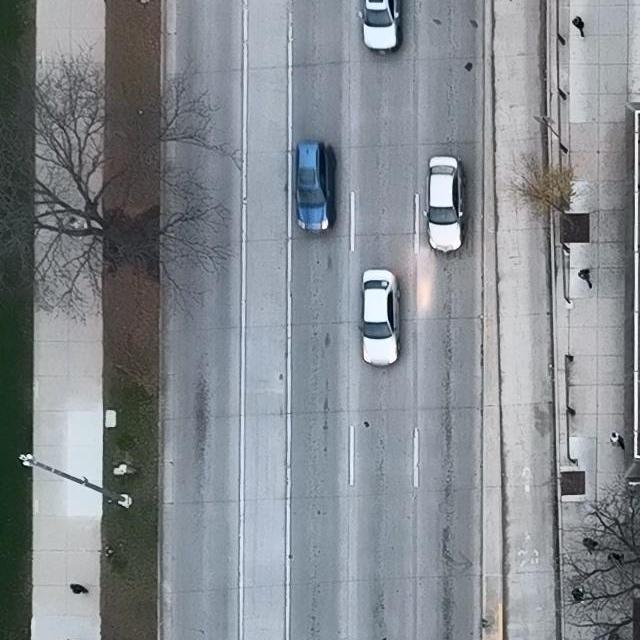car: (422, 155, 464, 253), (358, 269, 400, 367), (292, 140, 336, 233), (358, 0, 401, 53)
